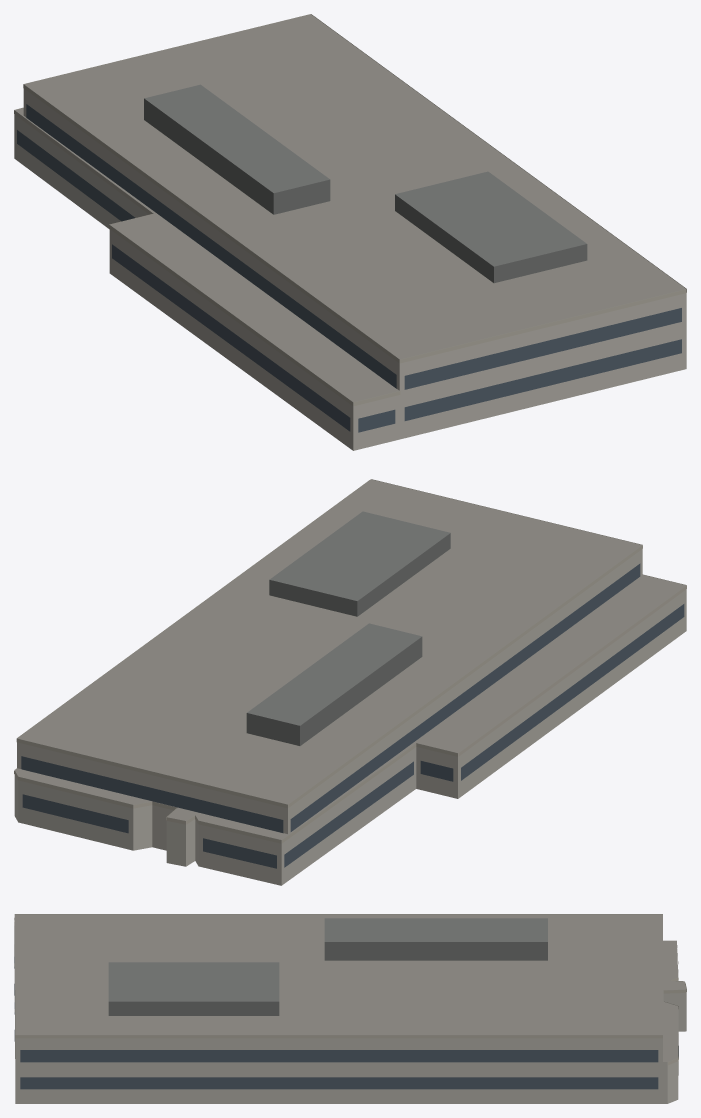
Rendered from one-spring-street-building.glb.
3 renders of one model, top to bottom at view 1: azimuth 30°, elevation 25°; view 2: azimuth 150°, elevation 25°; view 3: azimuth 270°, elevation 25°, orthographic. The views are drawn at different scales.
Parts seen in each view (by area): view 1: one_spring_street_building; view 2: one_spring_street_building; view 3: one_spring_street_building.
Part boxes in pixels (box(x1,y1,x2,y2)): one_spring_street_building: box(14, 14, 686, 450); one_spring_street_building: box(14, 479, 686, 885); one_spring_street_building: box(14, 914, 686, 1103).
Size of the model in its own units: 42.49 by 12.29 by 85.61.
